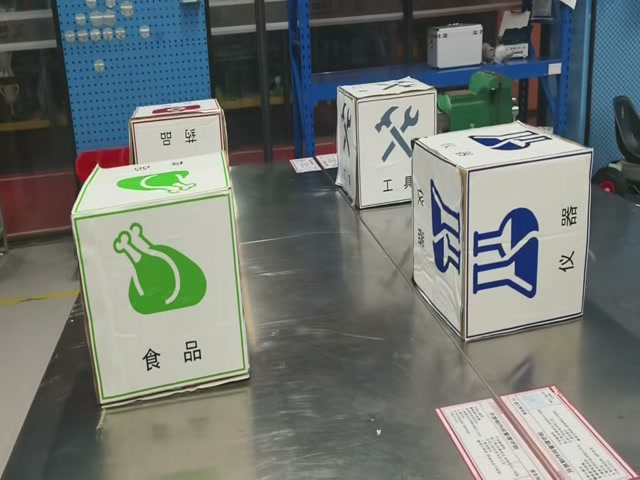Cube_food: (72, 152, 231, 222)
Cube_ins: (416, 123, 591, 178)
Cube_medicine: (129, 99, 223, 125)
Cube_tool: (327, 78, 436, 105)
